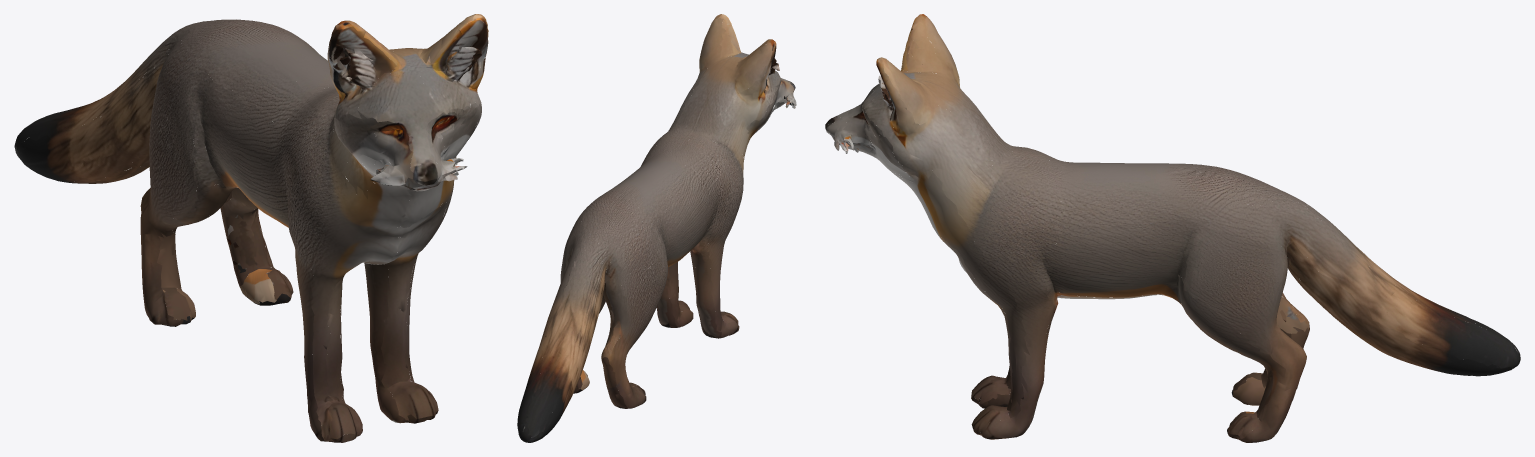
File: zorro.glb
3 renders of one model, left to right at view 1: azimuth 30°, elevation 25°; view 2: azimuth 150°, elevation 25°; view 3: azimuth 270°, elevation 25°, orthographic. The views are drawn at different scales.
Visible parts, largest first — view 1: zorro; view 2: zorro; view 3: zorro.
Part boxes in pixels (x1,y1,x2,y2): zorro: [14, 14, 488, 442]; zorro: [517, 14, 796, 442]; zorro: [825, 14, 1520, 442].
Size of the model in its own units: 0.1984 by 0.55 by 0.9243.
1 material, 1 textured.
